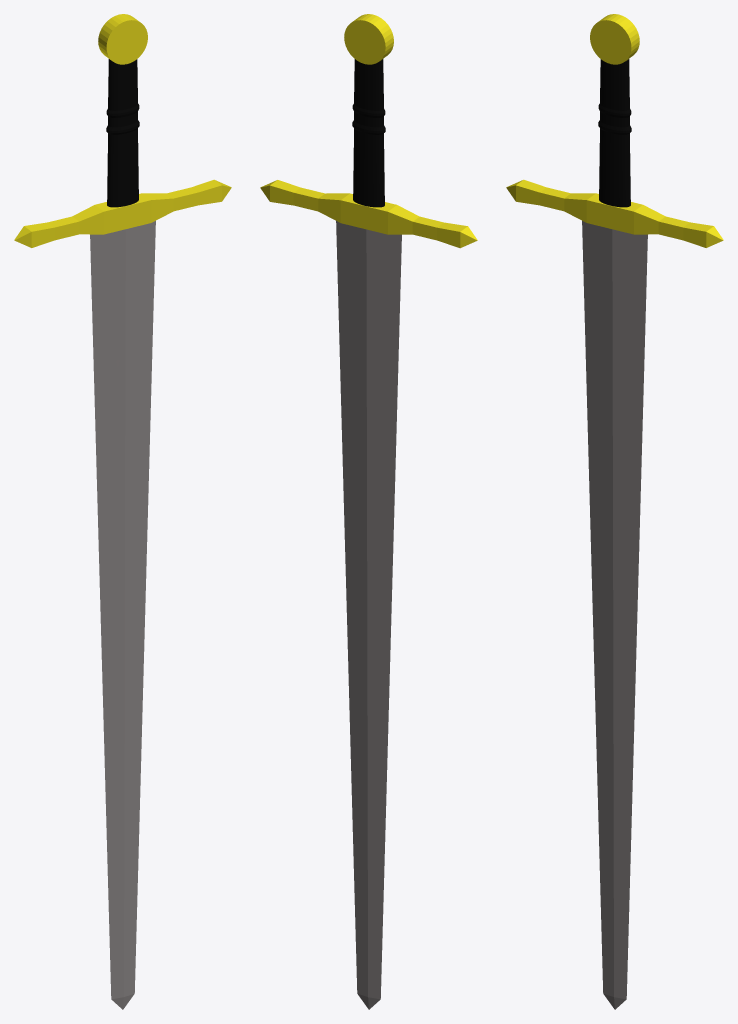
File: Sword.obj
3 renders of one model, left to right at view 1: azimuth 30°, elevation 25°; view 2: azimuth 150°, elevation 25°; view 3: azimuth 330°, elevation 25°, orthographic.
Parts seen in each view (by area): view 1: Sword_Cube.007; view 2: Sword_Cube.007; view 3: Sword_Cube.007.
Boxes of the visible parts, x1,y1,x2,y2 form: Sword_Cube.007: [14, 14, 231, 1009]; Sword_Cube.007: [260, 14, 477, 1009]; Sword_Cube.007: [506, 14, 723, 1009].
Size of the model in its own units: 0.5874 by 2.57 by 0.0438.
